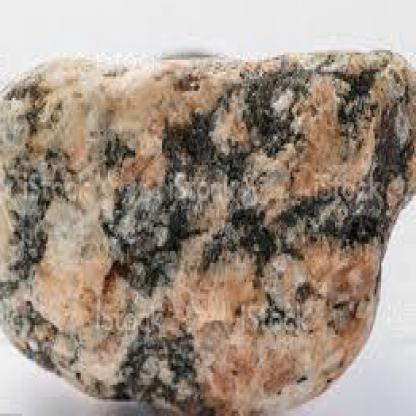Metamorphic_Quartize: (0, 21, 415, 414)
